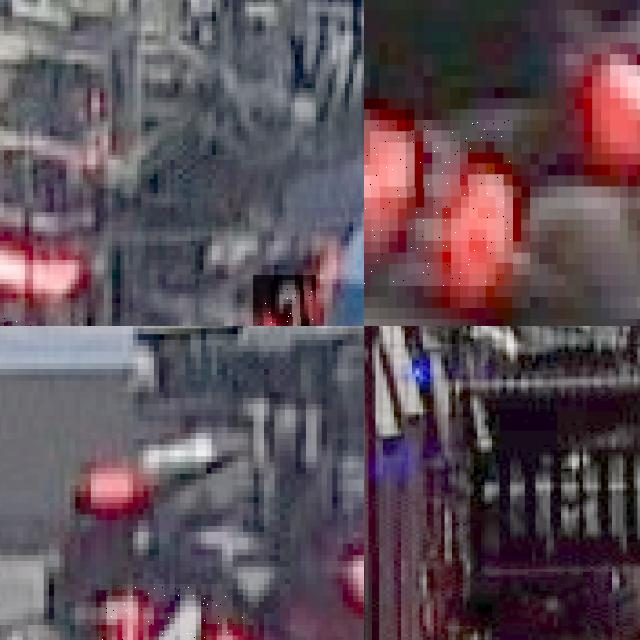R2: (253, 274, 315, 326)
R3: (364, 120, 512, 285)
R4: (98, 584, 245, 640)
